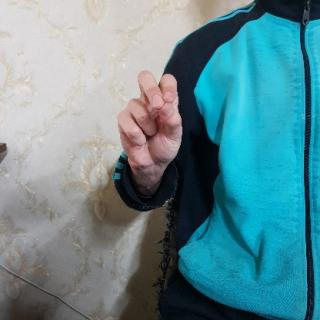QAAF: (110, 65, 189, 180)
